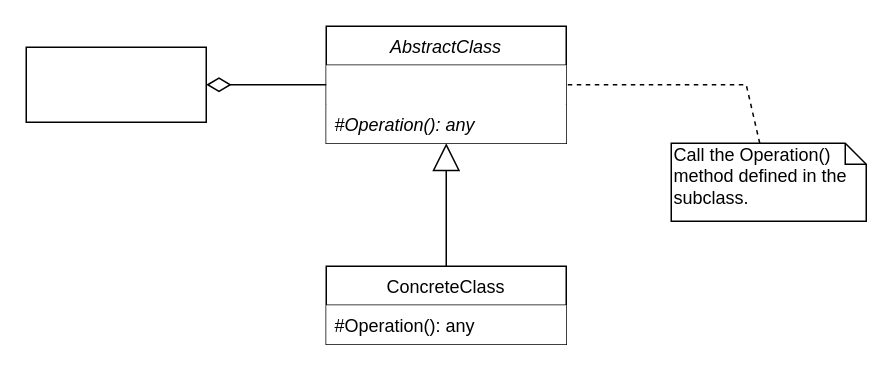
Image size: 893x375. Some labels were removed from this diagram. Each missing label, with the centre of its shape:
"+TemplateMethod(): any" goes at (x=446, y=84).
"Client" goes at (x=115, y=84).
